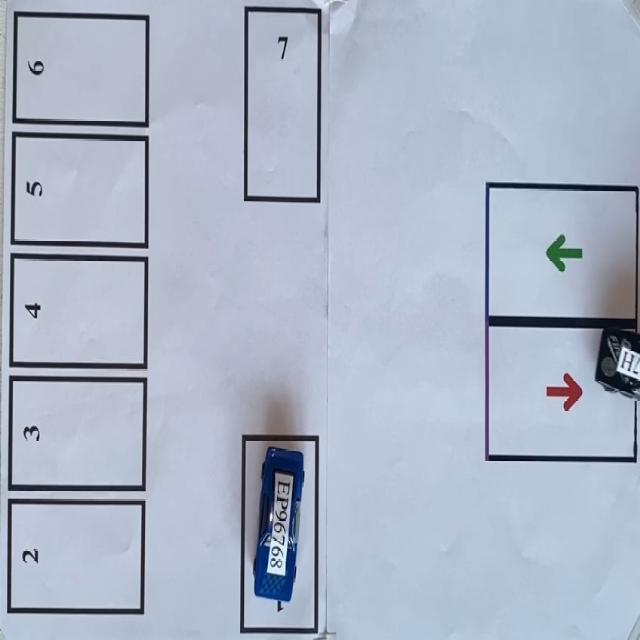car: (254, 448, 303, 609), (595, 329, 639, 399)
